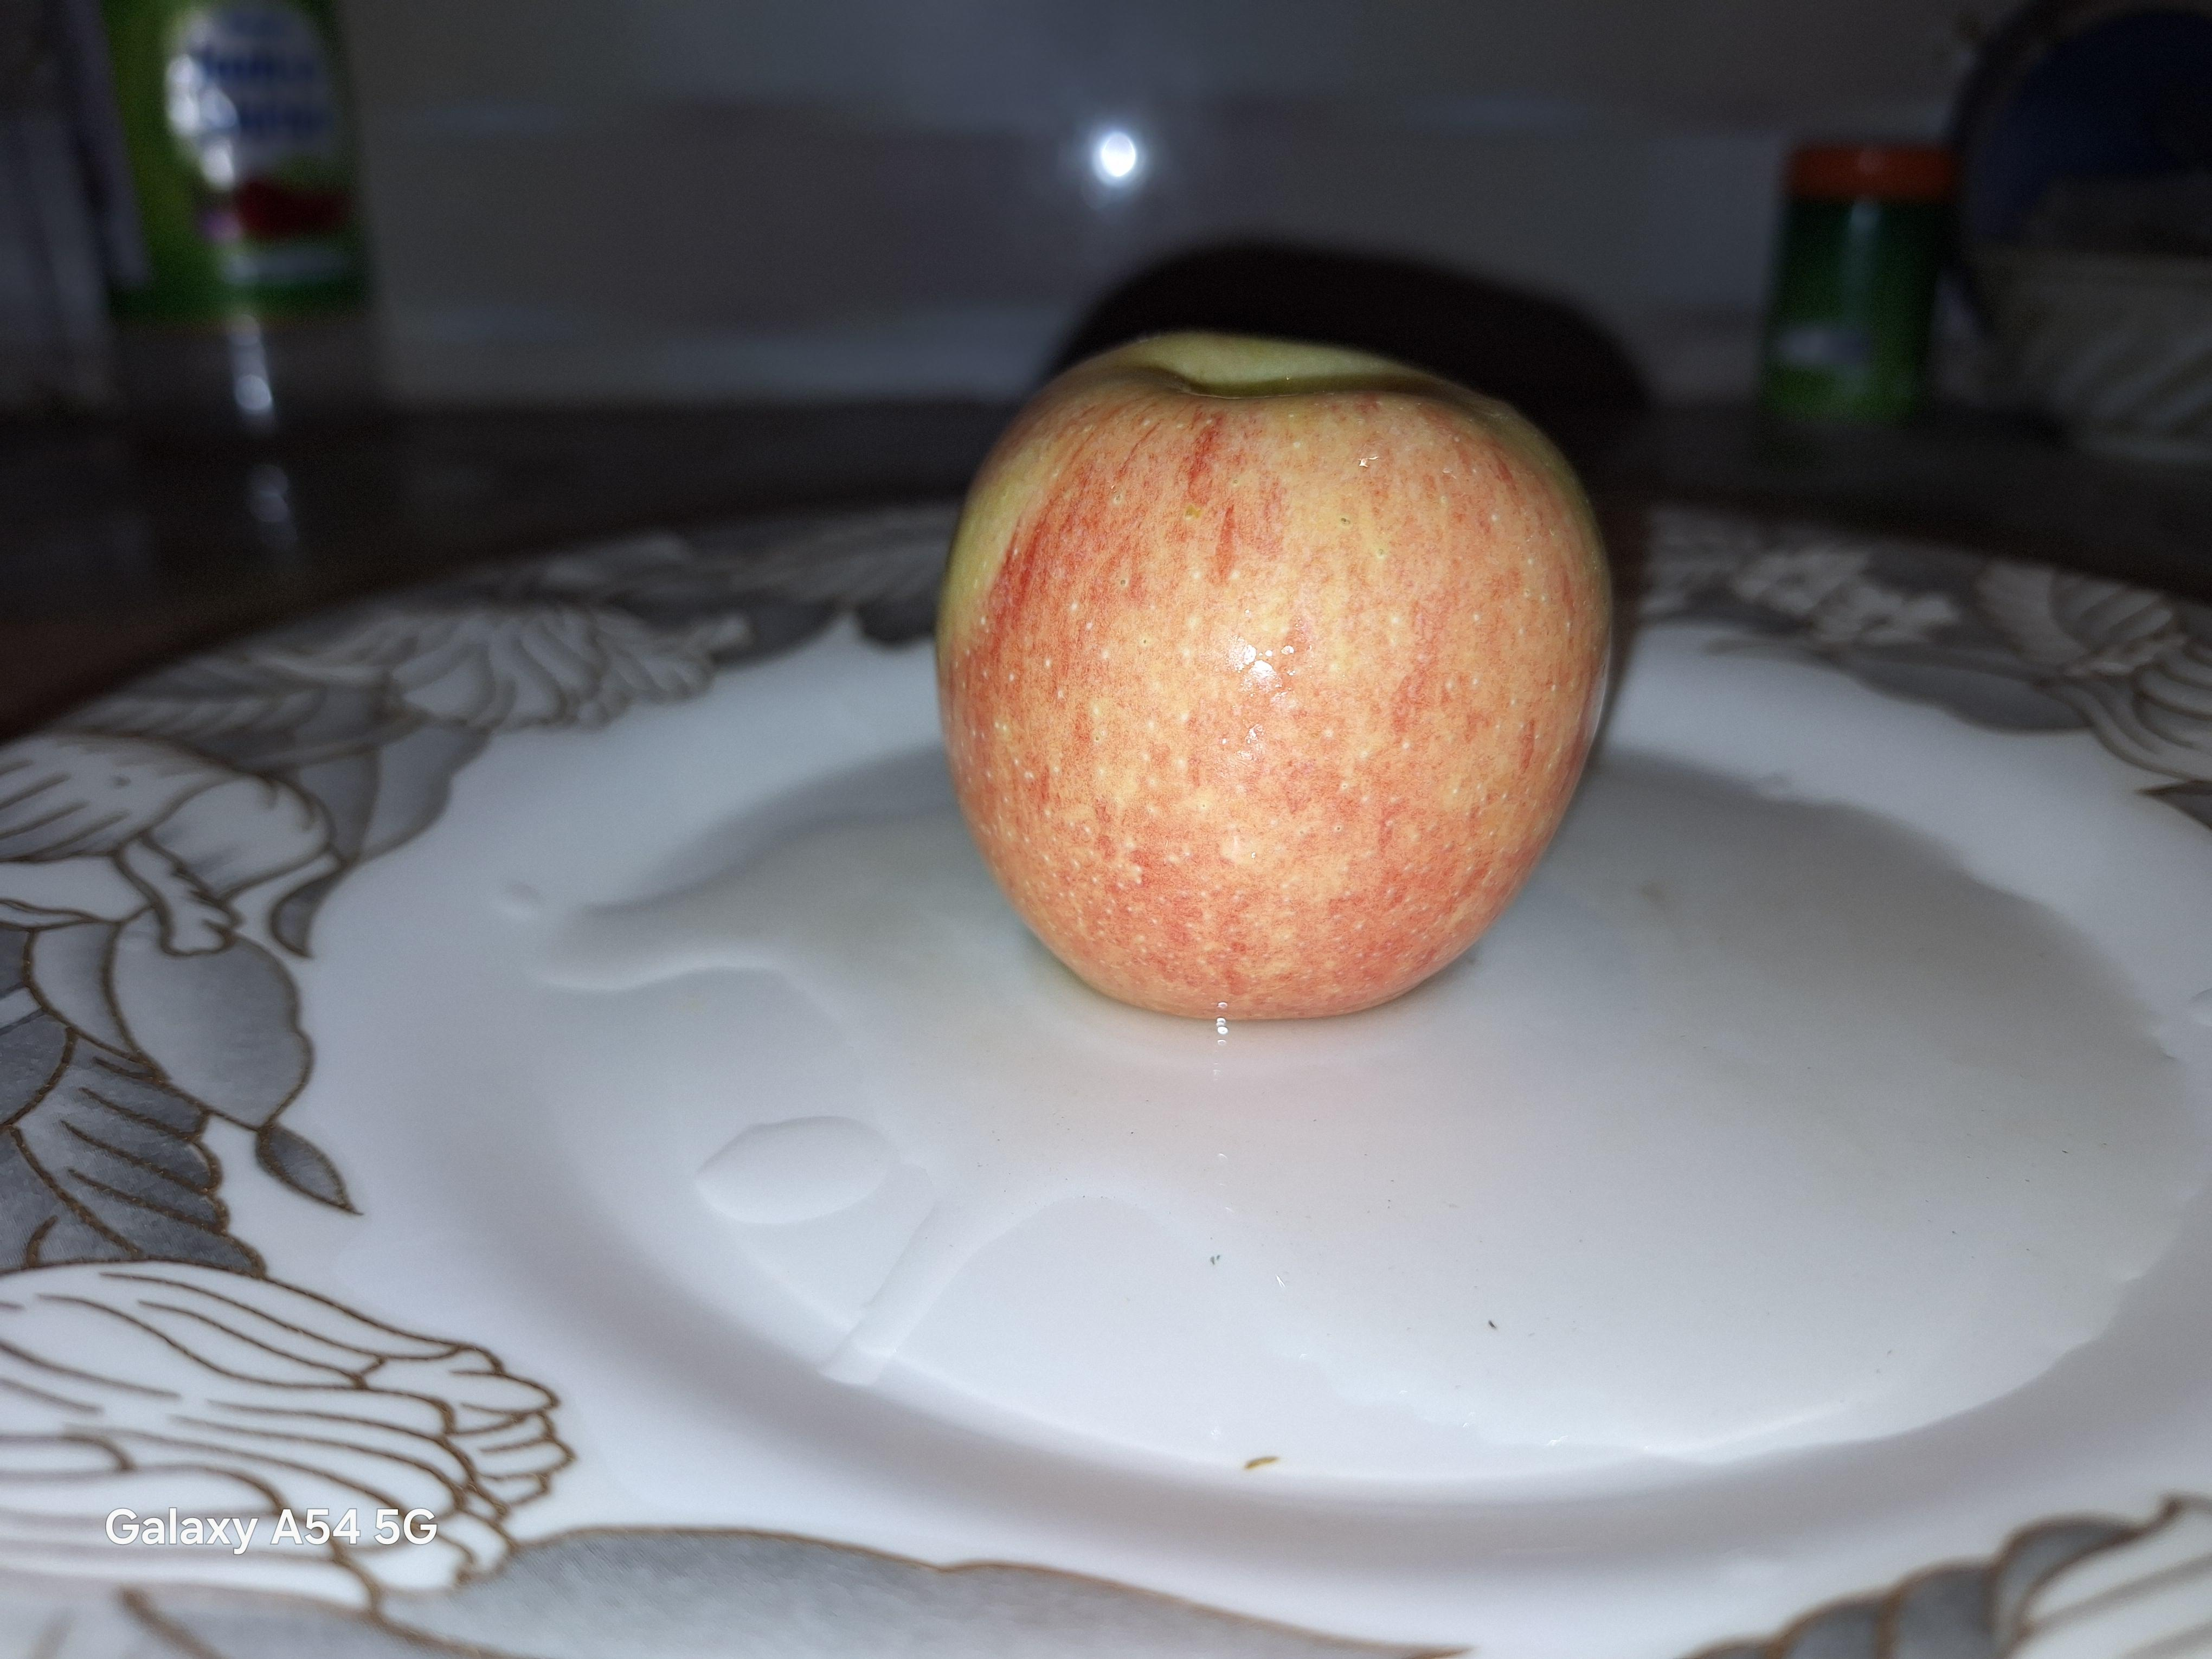non-mango: (939, 305, 1641, 1004)
